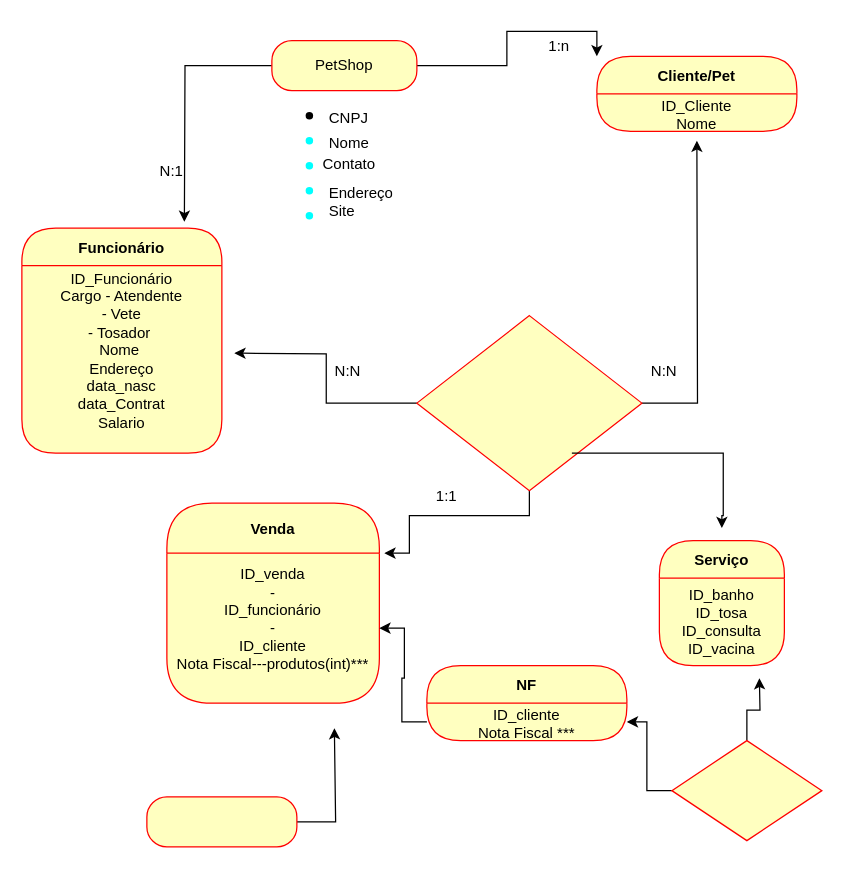
This 844x869 diagram has some shape labels left out. The centre of each missing label's shape, as x and y in pixels:
"Atendimento _____________ ID_funcionario ID_cliente ID_serviço" belongs at point 529,402.
"Estoque" belongs at point 221,821.
"Registro _______" belongs at point 746,790.
